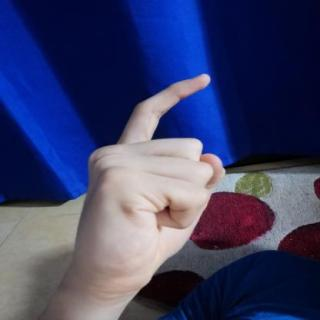RAA: (57, 63, 231, 285)
